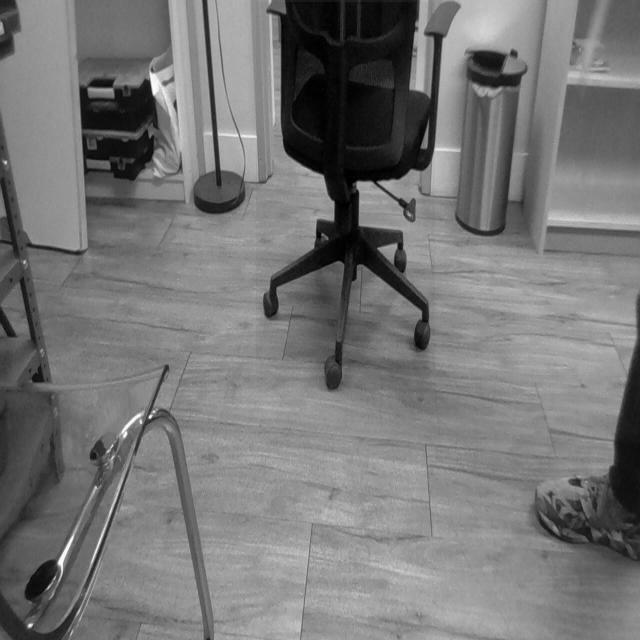chair: (256, 2, 436, 370)
